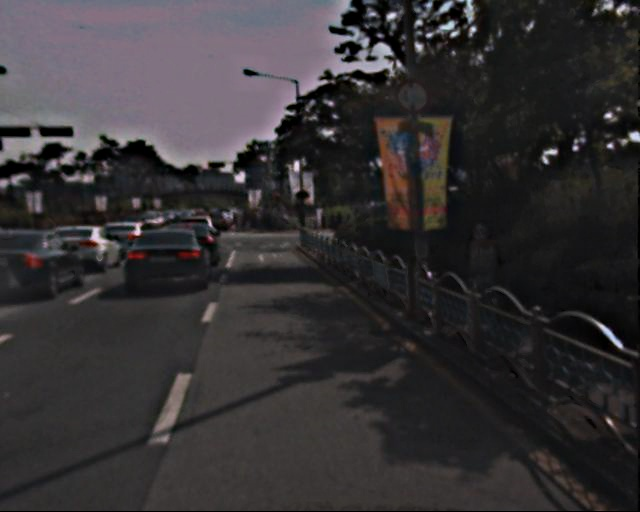person: (460, 220, 504, 329)
